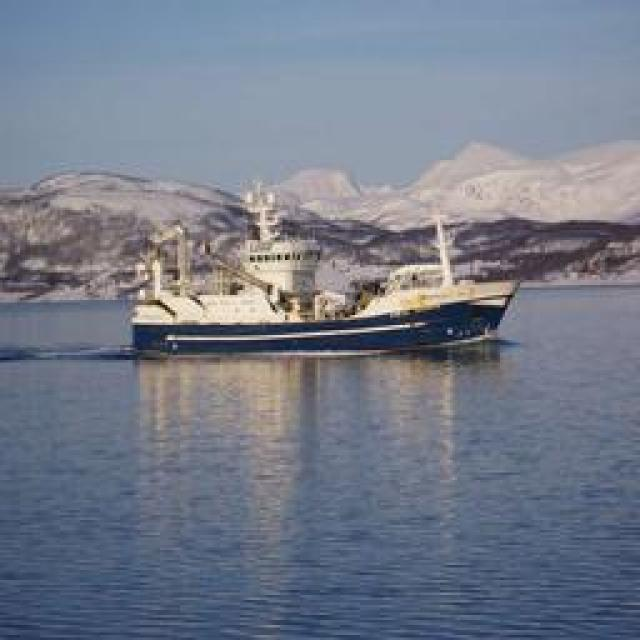CIV_Ship: (119, 270, 524, 355)
